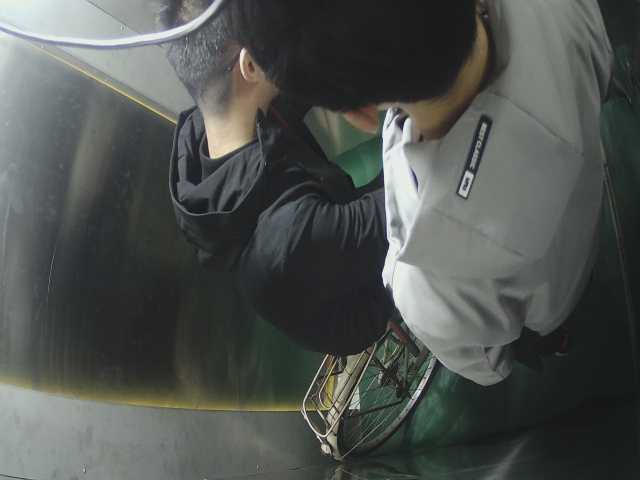bicycle: (290, 299, 454, 461)
person: (253, 1, 613, 391), (153, 1, 430, 345)
